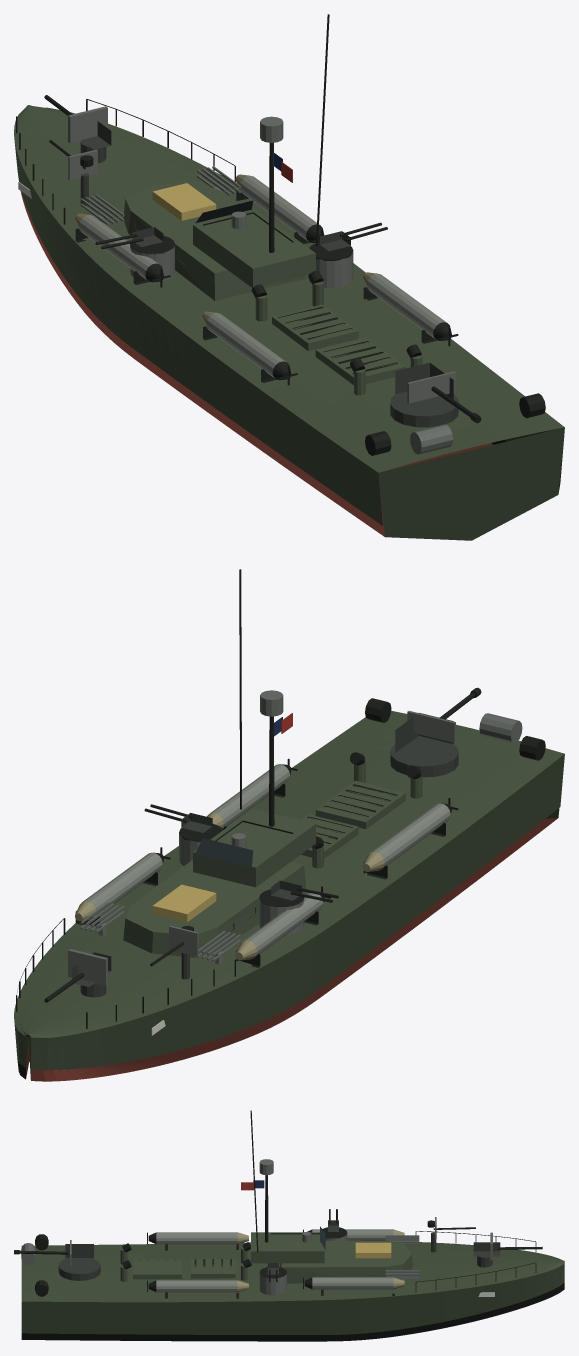
File: pt_elco.glb
3 views of the same model, one above another, from view 1: azimuth 30°, elevation 25°; view 2: azimuth 150°, elevation 25°; view 3: azimuth 270°, elevation 25° (orthographic). The views are drawn at different scales.
Parts seen in each view (by area): view 1: Hull, Bofors, Torpedo3, Torpedo4, Twin50Stbd, Torpedo2, Torpedo1, Gun37, Twin50Port, Oerlikon, RocketsPort; view 2: Hull, Bofors, Torpedo4, Torpedo1, Torpedo2, Torpedo3, Gun37, Twin50Port, Twin50Stbd, Oerlikon, RocketsStbd, RocketsPort; view 3: Hull, Bofors, Torpedo3, Torpedo4, Torpedo1, Twin50Stbd, Gun37, Torpedo2, Twin50Port, RocketsStbd, Oerlikon, RocketsPort.
Part boxes in pixels (x1,y1,x2,y2): Hull: (14,14,564,540); Bofors: (390,362,481,427); Torpedo3: (363,272,458,346); Torpedo4: (202,311,297,385); Twin50Stbd: (308,222,387,287); Torpedo2: (75,213,170,287); Torpedo1: (235,174,324,244); Gun37: (44,95,111,163); Twin50Port: (95,227,174,280); Oerlikon: (49,140,97,205); RocketsPort: (80,194,124,225); Hull: (14,569,564,1081); Bofors: (390,687,481,777); Torpedo4: (363,798,458,879); Torpedo1: (75,847,170,925); Torpedo2: (235,886,330,967); Torpedo3: (207,758,297,829); Gun37: (44,949,111,1002); Twin50Port: (259,880,338,934); Twin50Stbd: (144,804,223,865); Oerlikon: (150,925,198,979); RocketsStbd: (80,902,124,935); RocketsPort: (197,930,240,964); Hull: (21,1110,564,1341); Bofors: (14,1240,100,1280); Torpedo3: (147,1280,248,1298); Torpedo4: (147,1232,248,1250); Torpedo1: (303,1277,404,1295); Twin50Stbd: (259,1263,286,1295); Gun37: (473,1232,542,1267); Torpedo2: (303,1229,404,1240); Twin50Port: (322,1209,347,1240); RocketsStbd: (385,1270,419,1280); Oerlikon: (427,1217,475,1252); RocketsPort: (385,1235,419,1244).
Size of the model in its own units: 7.5 by 11.63 by 24.75.
